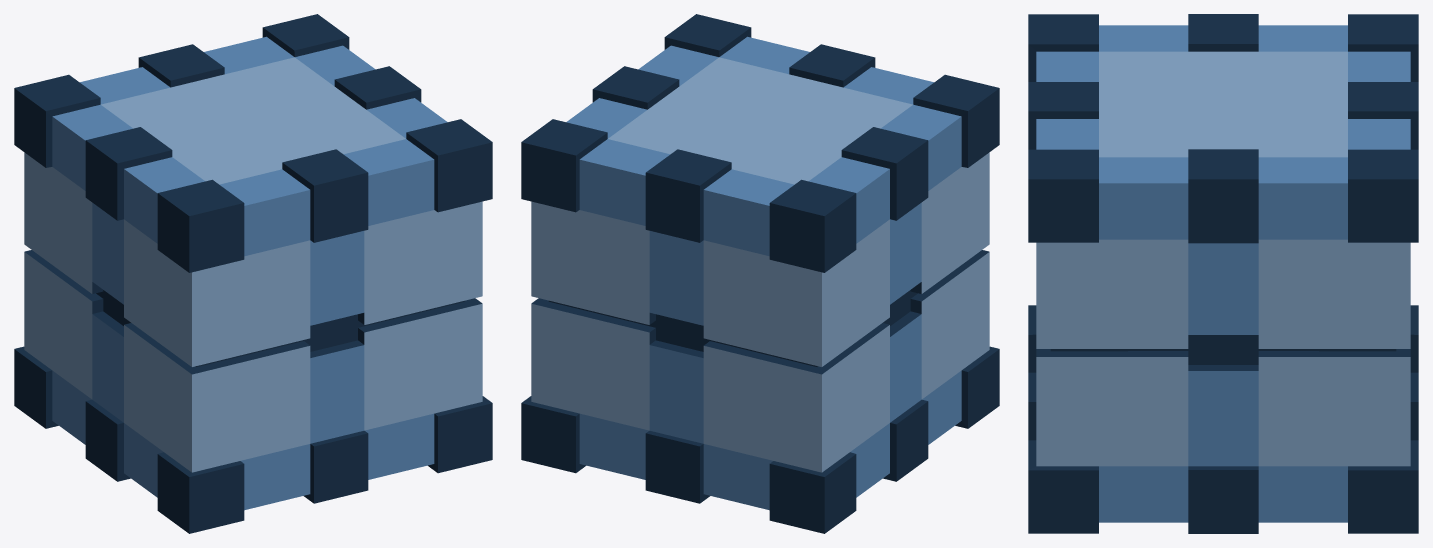
3 renders of one model, left to right at view 1: azimuth 30°, elevation 25°; view 2: azimuth 150°, elevation 25°; view 3: azimuth 270°, elevation 25°, orthographic. The views are drawn at different scales.
Visible parts, largest first — view 1: SpaceCrate; view 2: SpaceCrate; view 3: SpaceCrate.
Boxes of the visible parts, <box> form: SpaceCrate: <box>14,14,492,533</box>; SpaceCrate: <box>521,14,999,533</box>; SpaceCrate: <box>1028,14,1418,533</box>.
Size of what is drawn, in the model's own units: 0.9404 by 0.9419 by 0.9397.
1 material, 1 textured.
